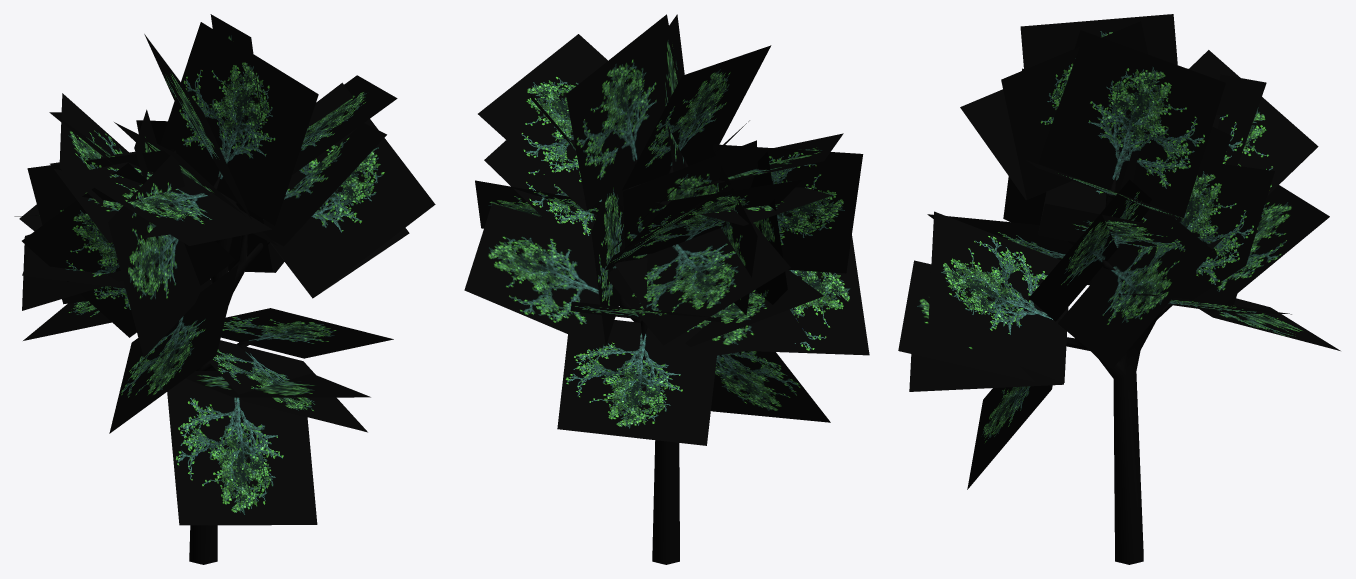
File: tree70.glb
The picture shows the model from 3 angles, left to right: view 1: azimuth 30°, elevation 25°; view 2: azimuth 150°, elevation 25°; view 3: azimuth 270°, elevation 25°; orthographic projection. The views are drawn at different scales.
Bounding box in the file's own units: 4.98 × 6.86 × 5.11.
2 materials, 1 textured.
